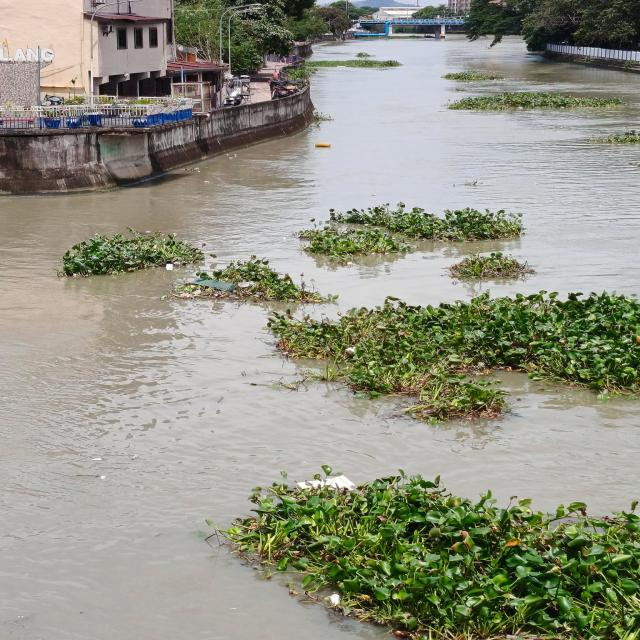Foamed Plastic: (314, 142, 331, 148), (344, 347, 356, 355)
Organic Debris: (196, 463, 640, 640), (325, 200, 527, 244), (290, 226, 418, 267), (442, 90, 638, 114), (438, 250, 542, 280), (304, 58, 405, 73), (583, 128, 640, 145), (1, 613, 37, 639), (439, 70, 504, 82), (452, 178, 484, 190), (314, 111, 334, 122), (354, 50, 375, 59), (72, 472, 100, 478), (447, 86, 468, 92), (629, 160, 640, 169), (312, 123, 321, 128), (78, 612, 86, 616)
Plastic: (259, 286, 640, 428), (49, 225, 219, 281), (165, 254, 337, 302), (291, 474, 361, 494), (326, 591, 342, 608), (128, 453, 140, 461), (164, 263, 174, 271), (202, 180, 214, 185), (98, 474, 108, 480), (89, 457, 102, 461), (240, 371, 247, 377), (179, 168, 193, 171), (280, 236, 290, 240), (144, 229, 152, 234), (228, 607, 238, 611), (23, 572, 30, 577), (264, 340, 272, 344), (336, 65, 346, 68), (516, 107, 524, 110), (533, 182, 540, 185), (193, 167, 200, 170), (228, 156, 233, 160), (233, 153, 237, 158), (371, 194, 376, 197), (204, 166, 208, 169), (560, 106, 564, 109), (225, 154, 230, 156)
